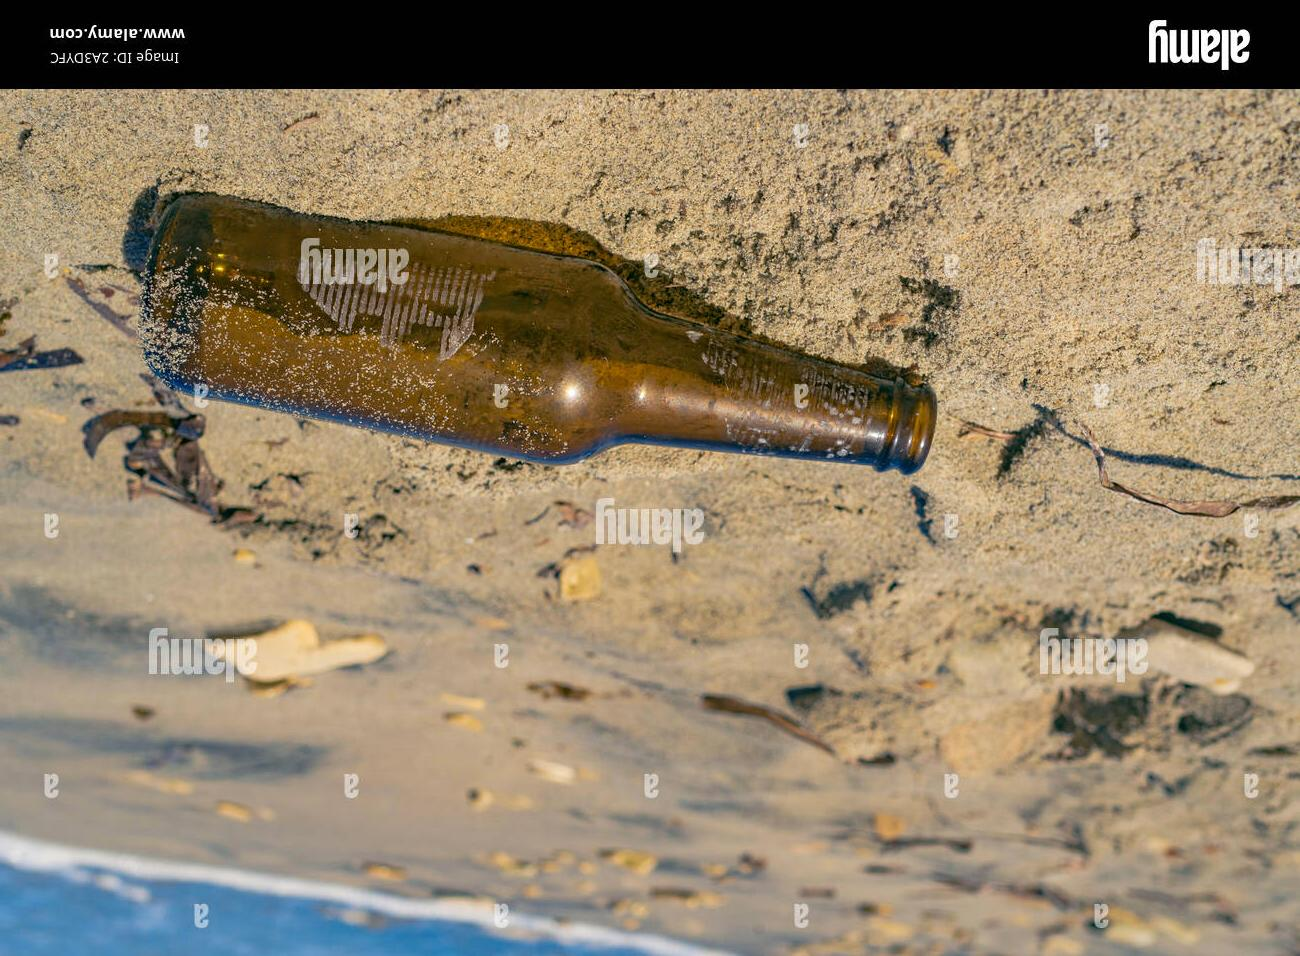Glass: (140, 191, 940, 479)
